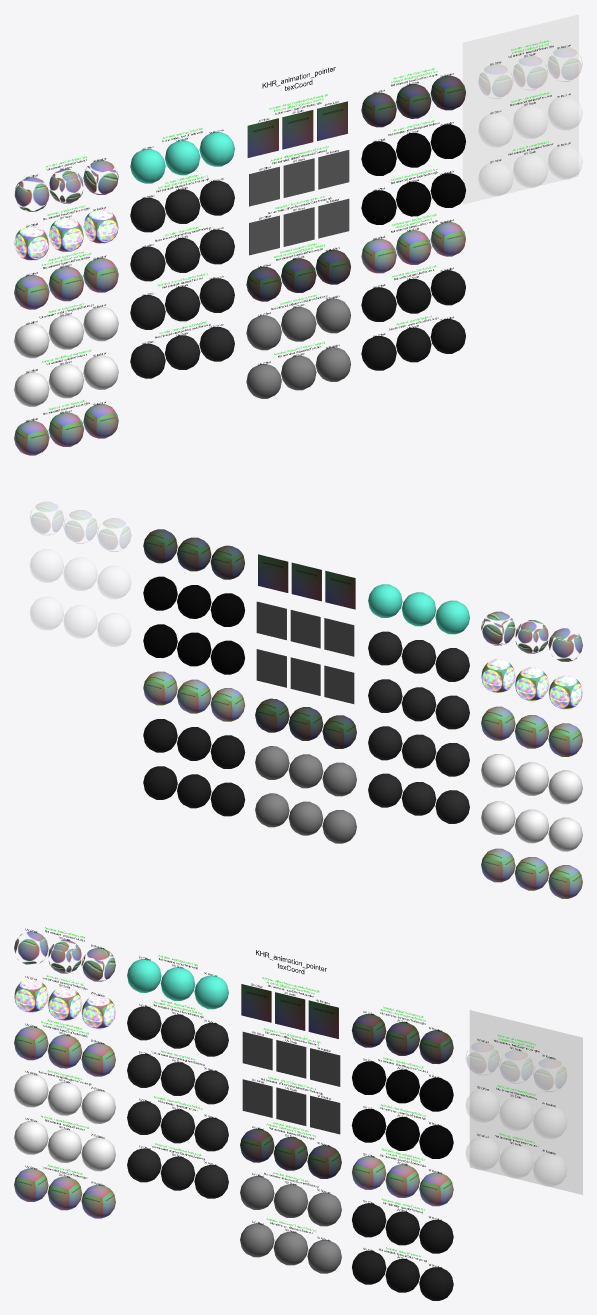
The model's file is AnimationPointerUVs.glb.
3 renders of one model, top to bottom at view 1: azimuth 30°, elevation 25°; view 2: azimuth 150°, elevation 25°; view 3: azimuth 330°, elevation 25°, orthographic. The views are drawn at different scales.
Visible parts, largest first — view 1: Plane_VolumeAttenuation, Box077, Box078, Box032, Box075, Box074, Box031, Box033, Box076, Box073, Box037, Box058 (+67 smaller); view 2: Box031, Box032, Box073, Box075, Box077, Box078, Box033, Box074, Box076, Box013, Box014, Box016 (+66 smaller); view 3: Plane_VolumeAttenuation, Box033, Box075, Box076, Box031, Box032, Box073, Box074, Box078, Box077, Box004, Box089 (+67 smaller).
Boxes of the visible parts, left/top/right/bottom form: Plane_VolumeAttenuation: left=462, top=14, right=578, bottom=204; Box077: left=283, top=207, right=314, bottom=246; Box078: left=318, top=198, right=349, bottom=238; Box032: left=282, top=110, right=313, bottom=149; Box075: left=318, top=150, right=349, bottom=189; Box074: left=283, top=158, right=314, bottom=197; Box031: left=247, top=118, right=278, bottom=157; Box033: left=317, top=101, right=347, bottom=140; Box076: left=249, top=215, right=279, bottom=255; Box073: left=249, top=166, right=279, bottom=206; Box037: left=361, top=238, right=396, bottom=273; Box058: left=246, top=266, right=281, bottom=301; Box031: left=325, top=570, right=355, bottom=609; Box032: left=291, top=562, right=321, bottom=601; Box073: left=324, top=618, right=354, bottom=656; Box075: left=256, top=601, right=286, bottom=640; Box077: left=290, top=657, right=320, bottom=695; Box078: left=256, top=649, right=286, bottom=687; Box033: left=258, top=554, right=288, bottom=592; Box074: left=290, top=610, right=320, bottom=648; Box076: left=324, top=665, right=354, bottom=703; Box013: left=548, top=817, right=582, bottom=851; Box014: left=514, top=809, right=549, bottom=843; Box016: left=548, top=675, right=582, bottom=709; Plane_VolumeAttenuation: left=469, top=1010, right=582, bottom=1194; Box033: left=308, top=1000, right=338, bottom=1038; Box075: left=310, top=1048, right=340, bottom=1086; Box076: left=242, top=1079, right=272, bottom=1117; Box031: left=241, top=984, right=271, bottom=1022; Box032: left=275, top=992, right=305, bottom=1030; Box073: left=242, top=1031, right=272, bottom=1070; Box074: left=276, top=1040, right=306, bottom=1078; Box078: left=310, top=1095, right=340, bottom=1134; Box077: left=276, top=1087, right=306, bottom=1125; Box004: left=14, top=1026, right=48, bottom=1060; Box089: left=385, top=1211, right=419, bottom=1245.
Size of the model in its own units: 18.56 by 9.74 by 1.06.
Materials: 81 (27 with a texture image).
